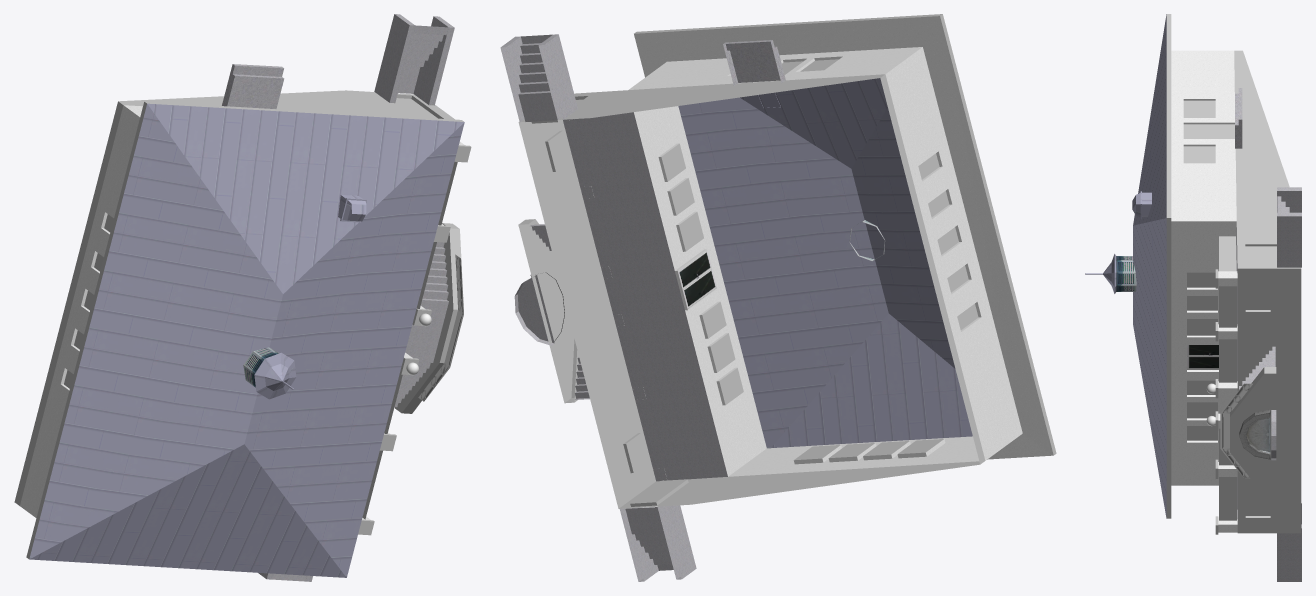
File: Toompuiestee_24a.obj
3 renders of one model, left to right at view 1: azimuth 30°, elevation 25°; view 2: azimuth 150°, elevation 25°; view 3: azimuth 270°, elevation 25°, orthographic. The views are drawn at different scales.
Parts seen in each view (by area): view 1: Toompuiestee_24a; view 2: Toompuiestee_24a; view 3: Toompuiestee_24a.
Part boxes in pixels (x1,y1,x2,y2): Toompuiestee_24a: (14, 14, 471, 581); Toompuiestee_24a: (500, 14, 1056, 581); Toompuiestee_24a: (1085, 14, 1301, 581).
Size of the model in its own units: 18.58 by 21 by 8.68.
